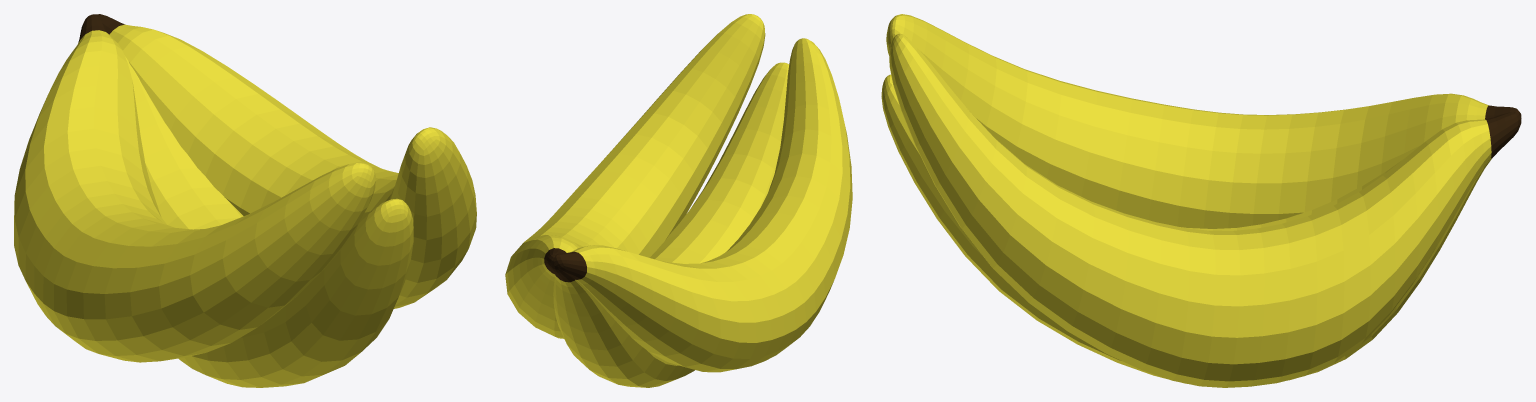
The model's file is banana.glb.
3 renders of one model, left to right at view 1: azimuth 30°, elevation 25°; view 2: azimuth 150°, elevation 25°; view 3: azimuth 270°, elevation 25°, orthographic. The views are drawn at different scales.
Parts seen in each view (by area): view 1: Куб.001; view 2: Куб.001; view 3: Куб.001.
Boxes of the visible parts, x1,y1,x2,y2 form: Куб.001: (14, 14, 476, 387); Куб.001: (505, 14, 852, 387); Куб.001: (881, 14, 1521, 387).
Size of the model in its own units: 9.68 by 9.08 by 14.51.
